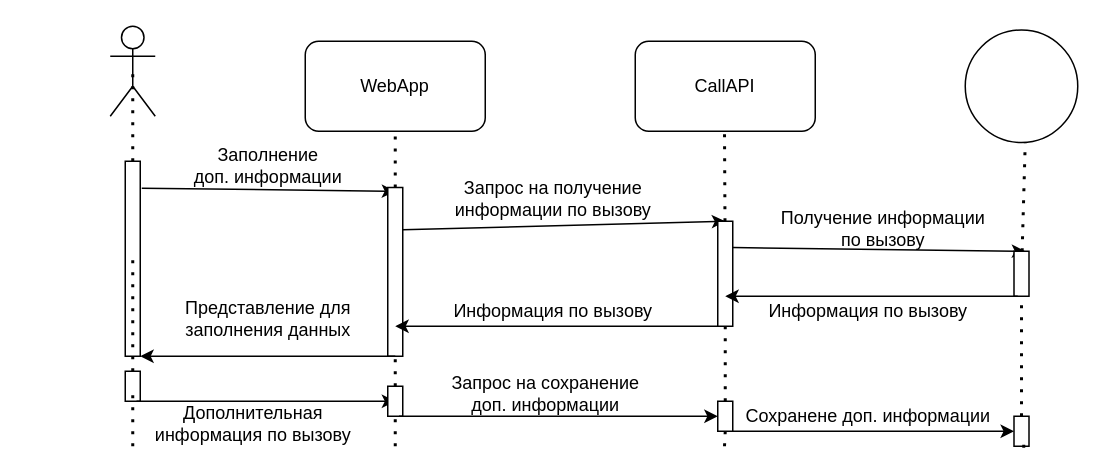
This 1104x476 diagram has some shape labels left out. Here are the shapes that lost their labels. From the top down, the centre of each, then its label:
At point (132, 70): "Бригада скорой попомщи".
At point (1021, 85): "Additional information".
